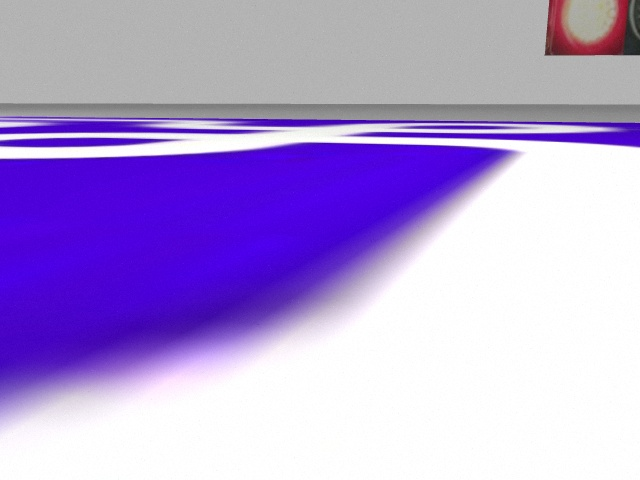red: (547, 1, 627, 57)
